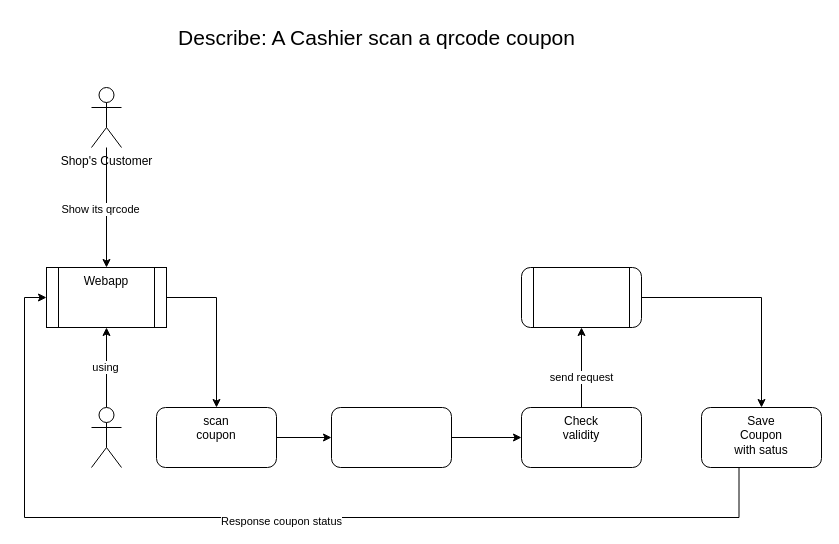
The diagram is 839 pixels wide and 544 high, and some of its shapes have lost their labels. The shapes that lost their labels are listed below. From the top down, each one's centre as x and y in pixels, then its label:
[581,297]: Lambda Backend
[106,437]: Cashier
[391,437]: Apply Security Checks
